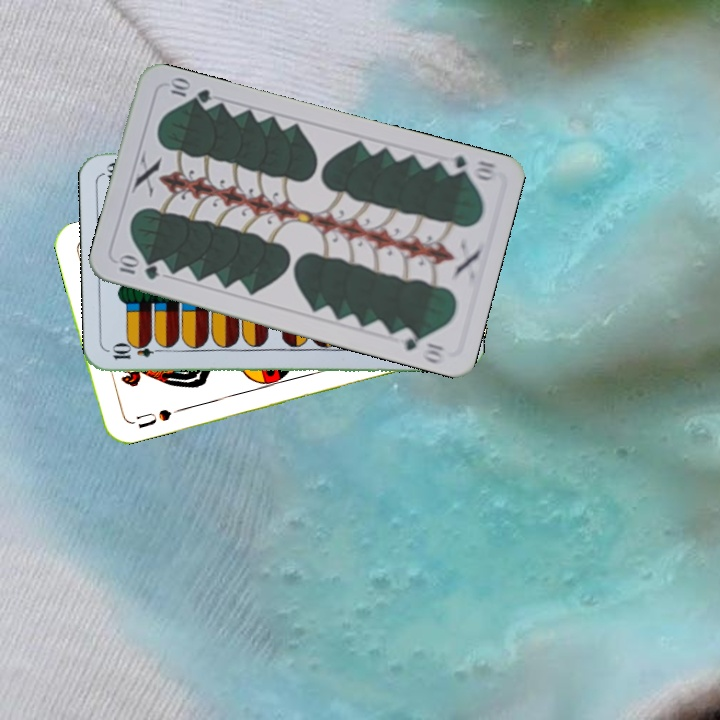E10: (108, 343, 167, 362)
G10: (439, 151, 499, 184), (113, 252, 162, 283)
SU: (124, 404, 183, 431)
